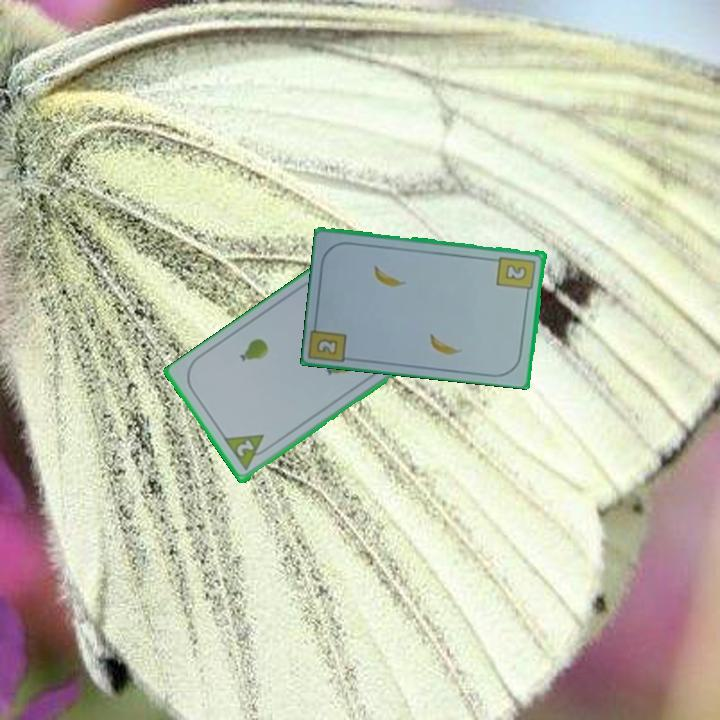2b: (494, 253, 539, 298), (308, 317, 350, 364)
2p: (232, 436, 257, 460)
